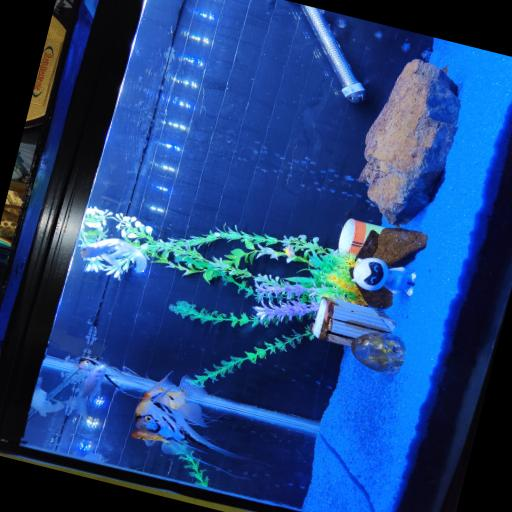Fish: (136, 390, 253, 459), (131, 428, 247, 478), (79, 356, 143, 398), (144, 373, 207, 408), (81, 238, 147, 271), (66, 363, 106, 416), (131, 428, 192, 455), (31, 377, 64, 416), (79, 356, 107, 370), (285, 244, 296, 262), (443, 65, 448, 72)
